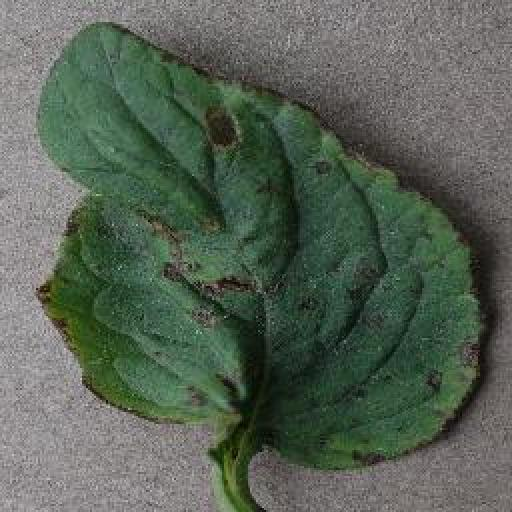Bacterial Spot: (32, 13, 497, 475)
